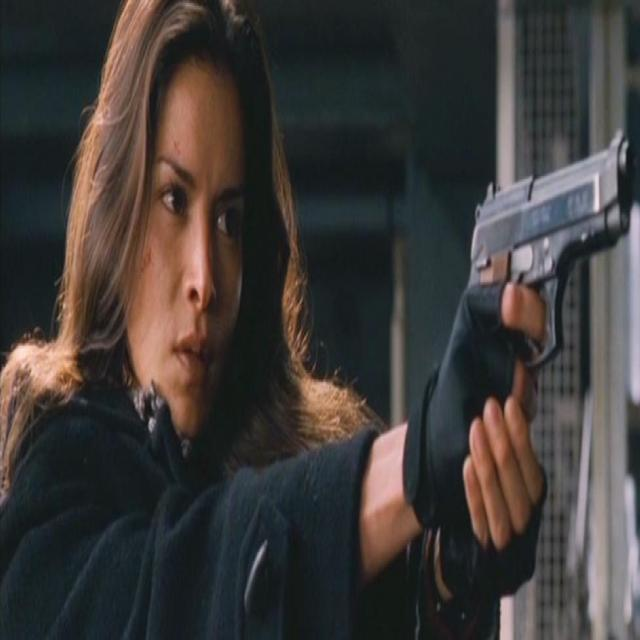gun-knife-thesis - v11 Yolov5 augmented: (469, 122, 638, 503)
